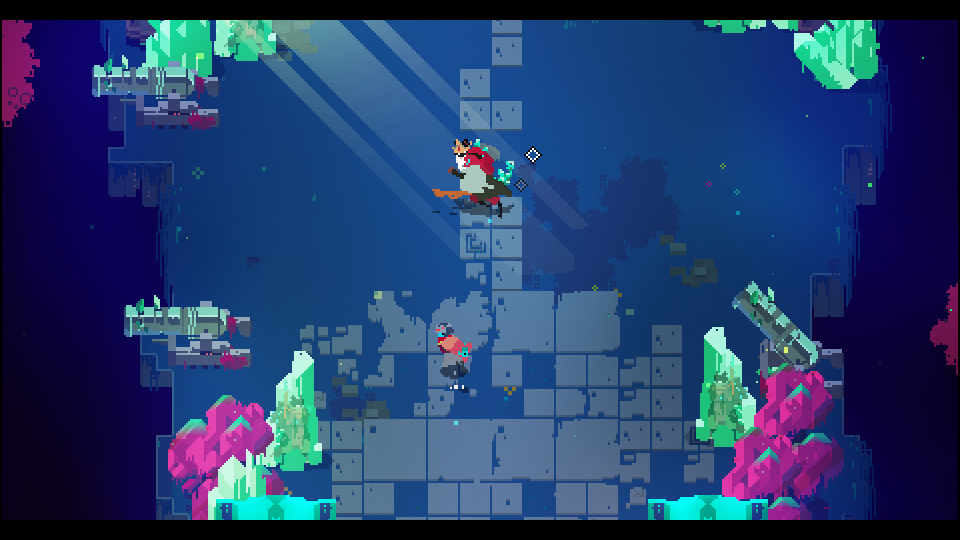hanged_man: (428, 140, 516, 212)
player: (434, 326, 468, 379)
